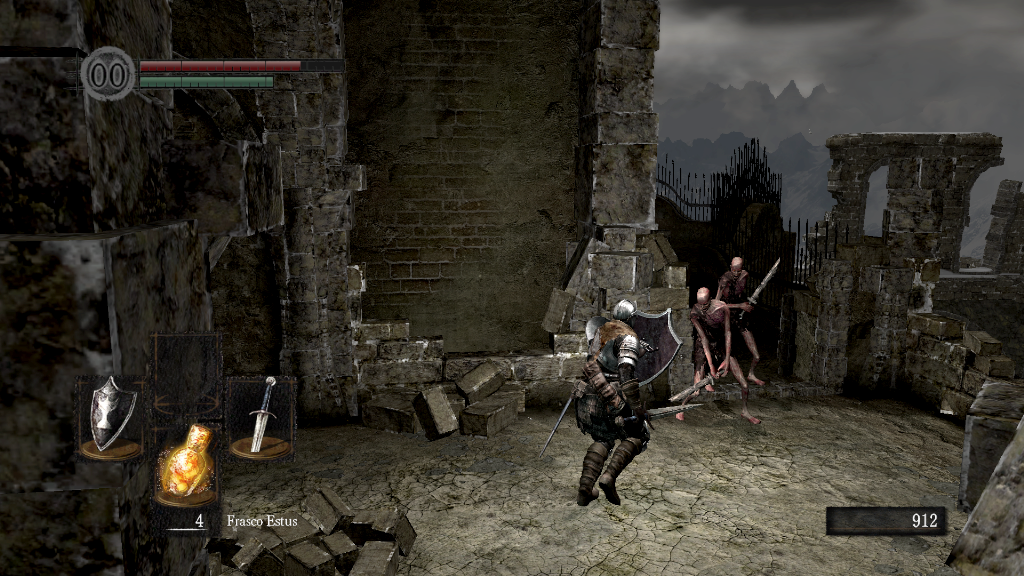health: (138, 58, 343, 71)
hollow: (686, 289, 763, 427), (716, 256, 764, 393)
humanity: (80, 45, 136, 102)
player: (539, 297, 704, 508)
souls: (825, 506, 945, 536)
stamina: (138, 74, 274, 88)
